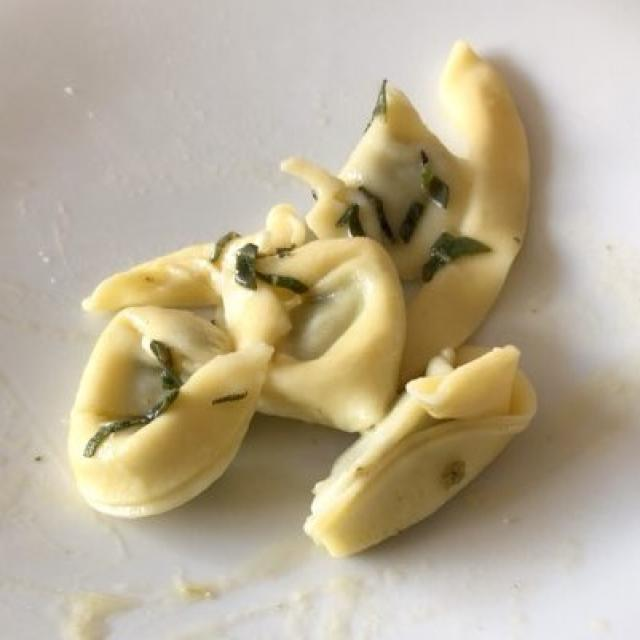butter: (61, 545, 379, 639)
pasta: (74, 58, 531, 551)
